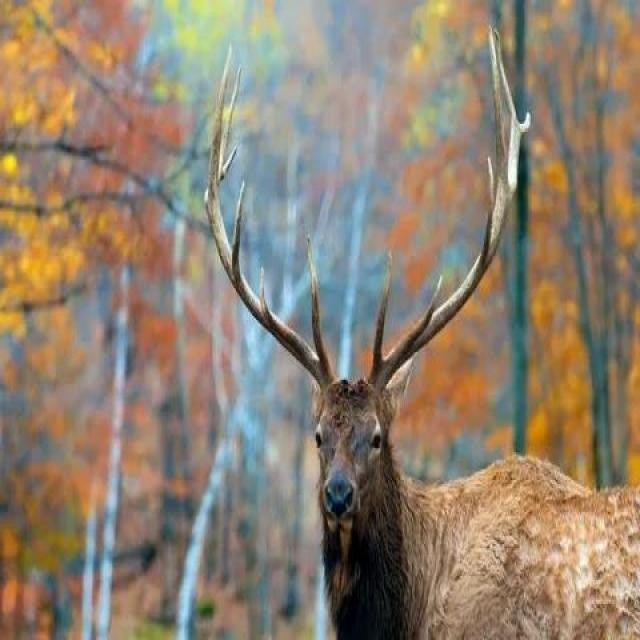deer: (213, 24, 561, 639)
